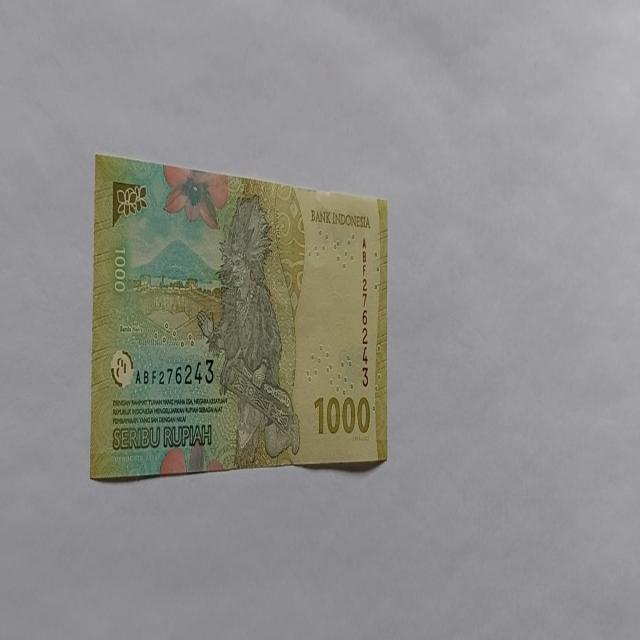seribu rupiah kertas: (89, 152, 389, 480)
